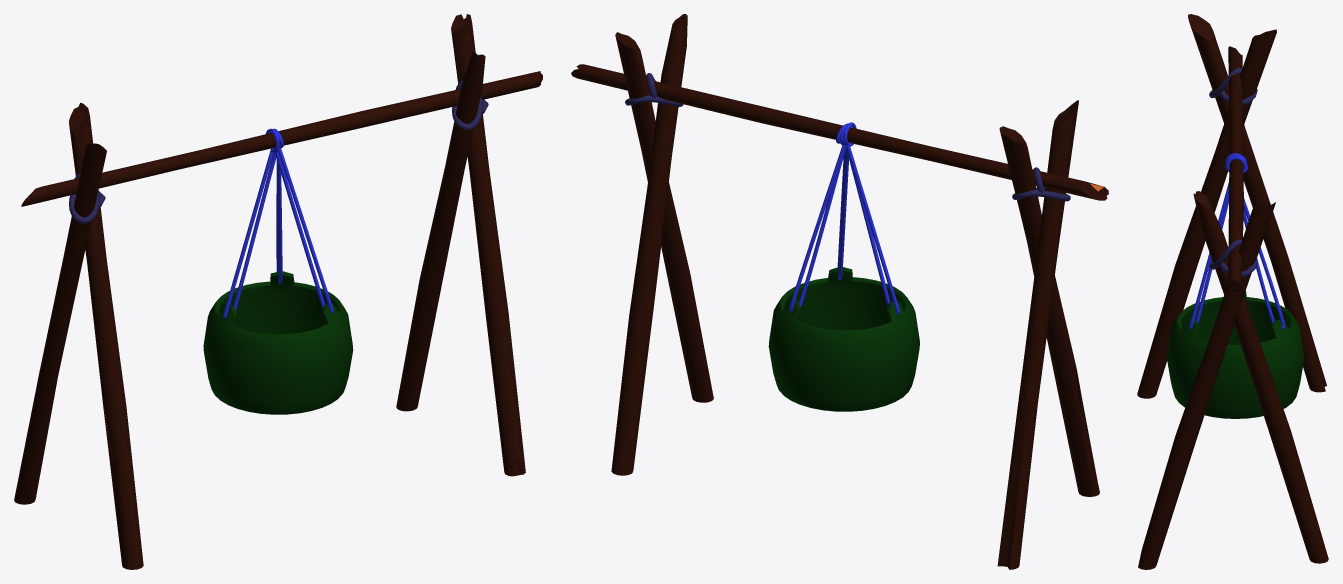
File: Panela_1.fbx
3 views of the same model, side by side, from view 1: azimuth 30°, elevation 25°; view 2: azimuth 150°, elevation 25°; view 3: azimuth 270°, elevation 25° (orthographic). The views are drawn at different scales.
Parts seen in each view (by area): view 1: pot_stand; view 2: pot_stand; view 3: pot_stand.
Part boxes in pixels (x1,y1,x2,y2): pot_stand: (14,14,542,569); pot_stand: (571,14,1108,569); pot_stand: (1137,14,1328,569).
Size of the model in its own units: 275 by 204 by 94.63.
